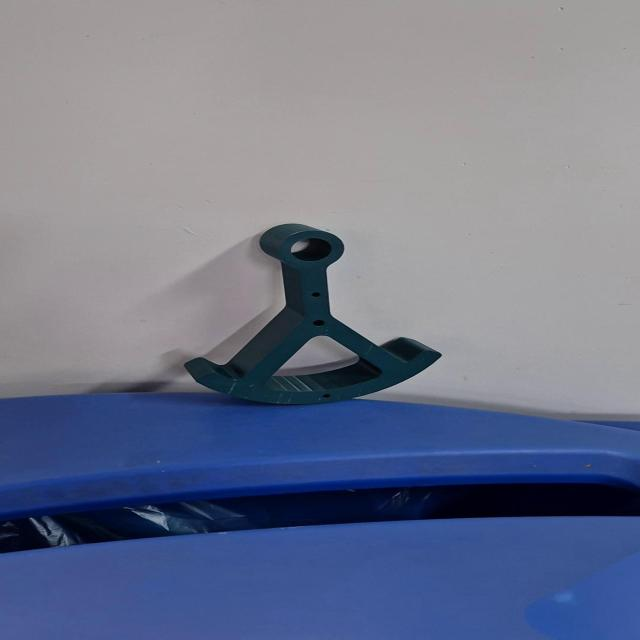haptic: (181, 222, 445, 407)
